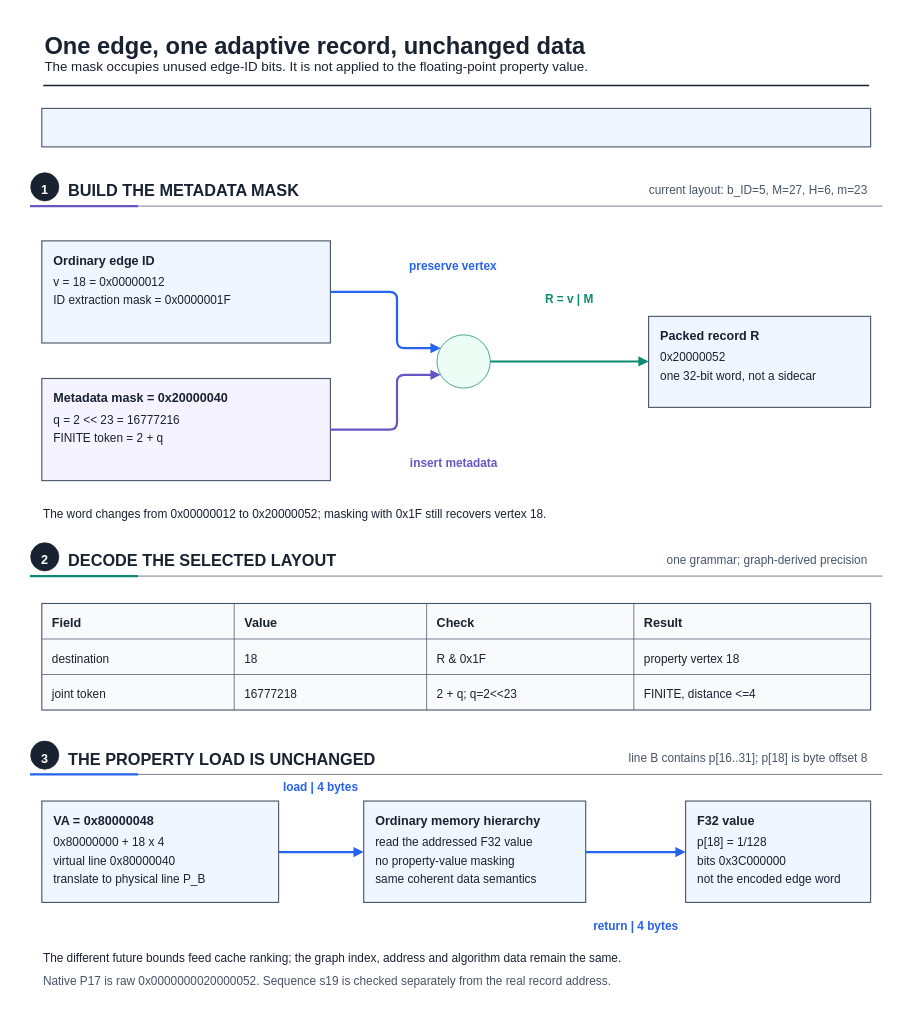
Image size: 912x1009. Some labels were removed from this diagram. The centre of each missing label's shape, as x and y in pixels:
"OR" belongs at (463,361).
"Same access: u=8 | CSR j=18 | request s=19 | property v=18 | line B" belongs at (456,127).
